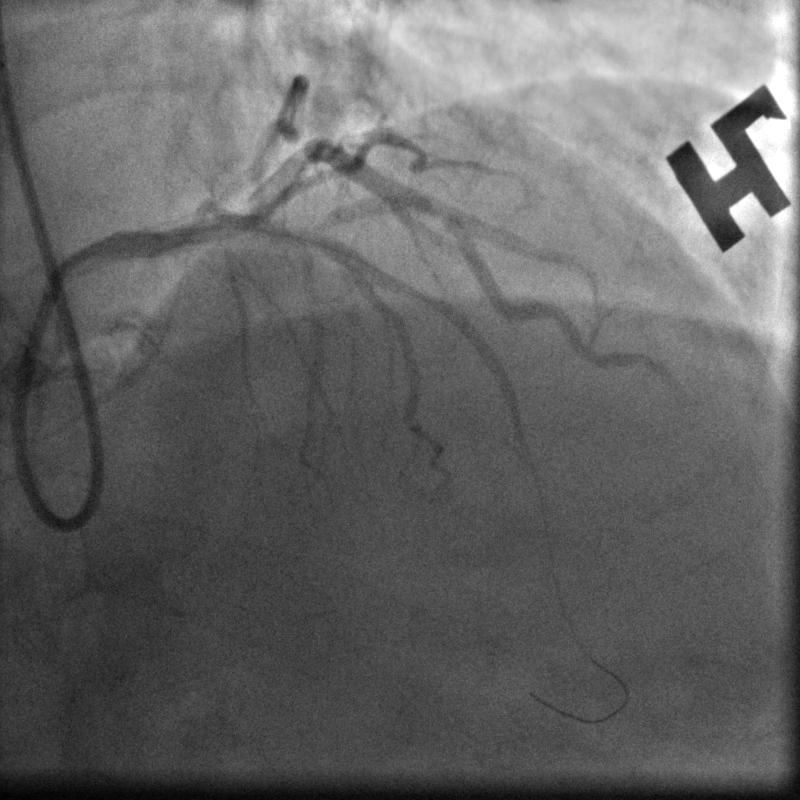Stenosis: (414, 189, 460, 233)
